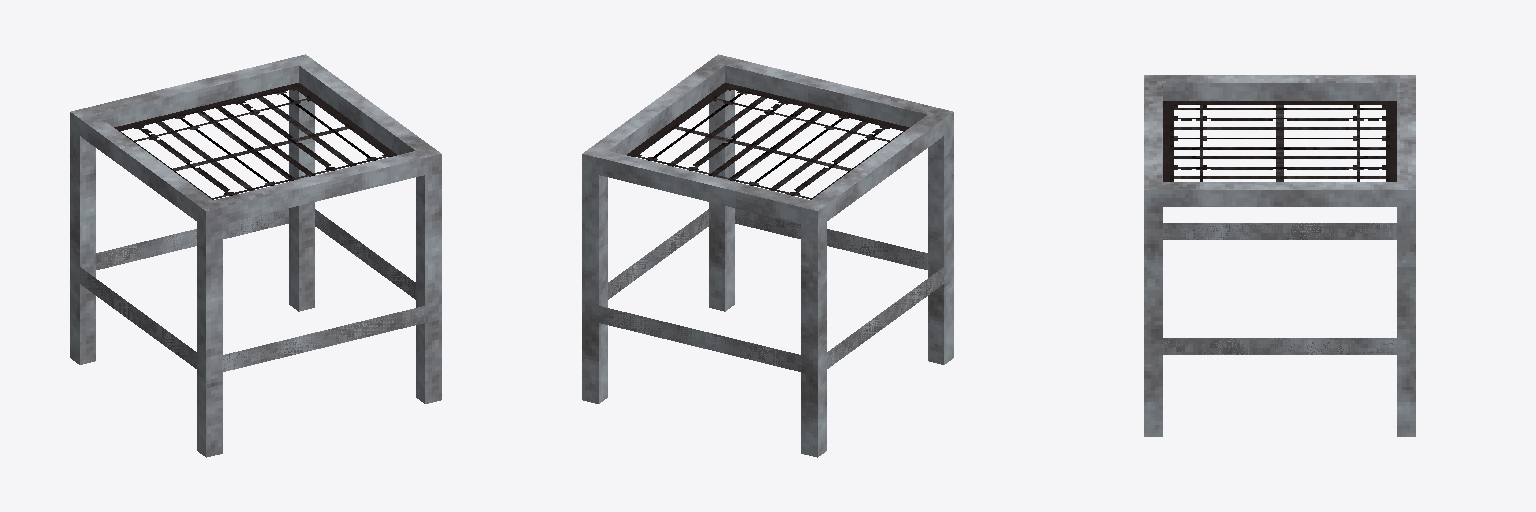
3 renders of one model, left to right at view 1: azimuth 30°, elevation 25°; view 2: azimuth 150°, elevation 25°; view 3: azimuth 270°, elevation 25°, orthographic.
Parts seen in each view (by area): view 1: scaffolding_structure; view 2: scaffolding_structure; view 3: scaffolding_structure.
Part boxes in pixels (left/top/right/bottom): scaffolding_structure: left=70, top=54, right=441, bottom=457; scaffolding_structure: left=582, top=54, right=953, bottom=457; scaffolding_structure: left=1144, top=75, right=1415, bottom=436.
Size of the model in its own units: 1 by 1 by 1.
2 materials, 2 textured.